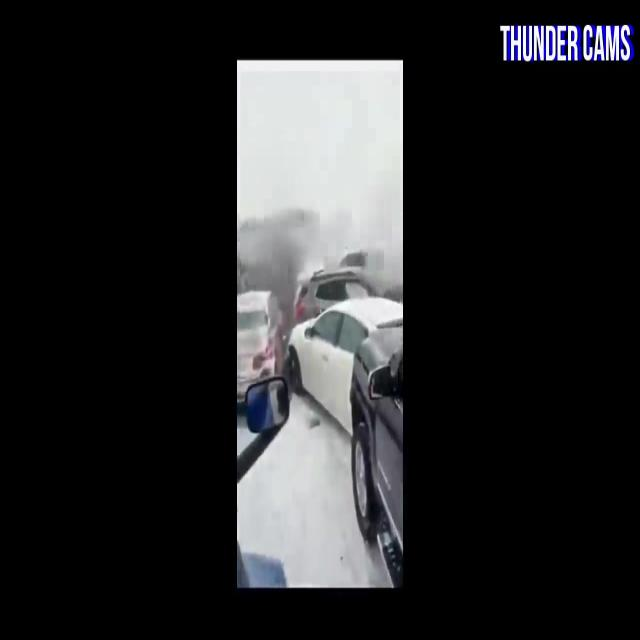accident: (242, 288, 336, 431)
